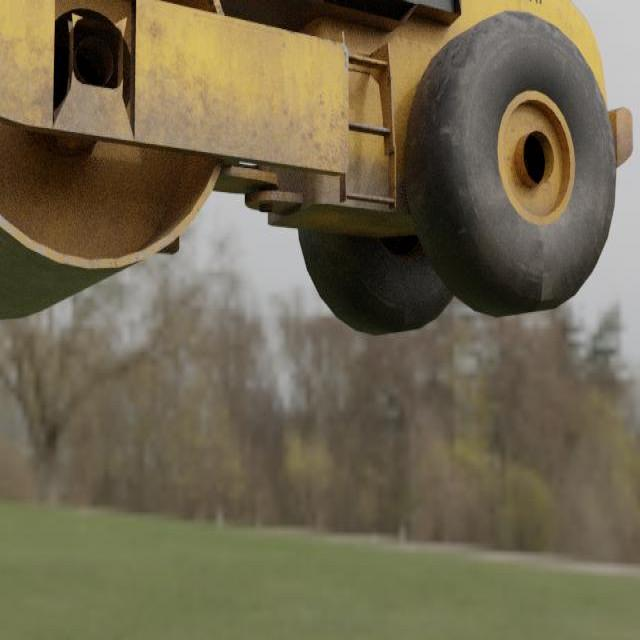Roller: (0, 0, 634, 337)
